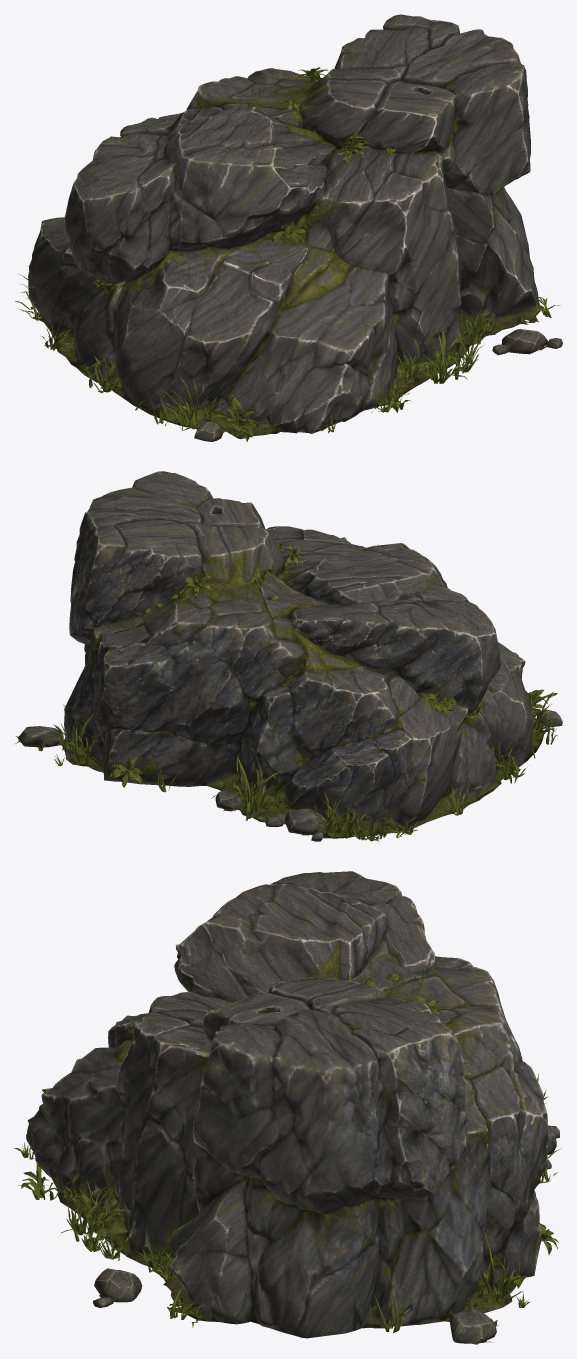
Rendered from rock_big2.glb.
The picture shows the model from 3 angles, top to bottom: view 1: azimuth 30°, elevation 25°; view 2: azimuth 150°, elevation 25°; view 3: azimuth 270°, elevation 25°; orthographic projection. The views are drawn at different scales.
Size of the model in its own units: 1.85 by 0.8607 by 1.57.
Materials: 1 (1 with a texture image).
